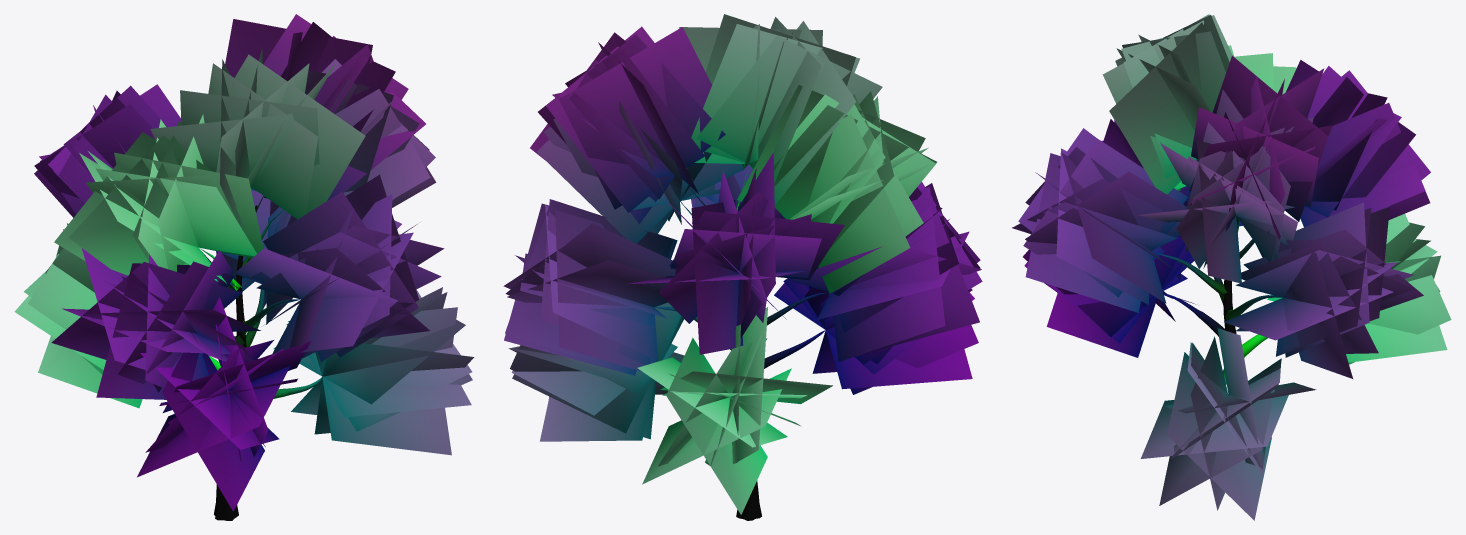
Rendered from M_P6_Tree_2.fbx.
The picture shows the model from 3 angles, left to right: view 1: azimuth 30°, elevation 25°; view 2: azimuth 150°, elevation 25°; view 3: azimuth 270°, elevation 25°; orthographic projection. The views are drawn at different scales.
Visible parts, largest first — view 1: Tree_2; view 2: Tree_2; view 3: Tree_2.
Part boxes in pixels (x1,y1,x2,y2): Tree_2: (14,14,474,520); Tree_2: (503,14,982,520); Tree_2: (1012,14,1451,520).
Size of the model in its own units: 525 by 582 by 524.
